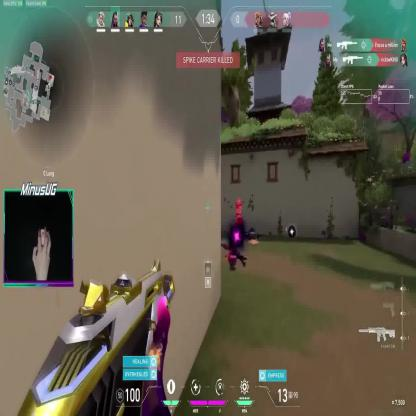enemy: (234, 197, 244, 236)
enemy_head: (236, 198, 241, 207)
